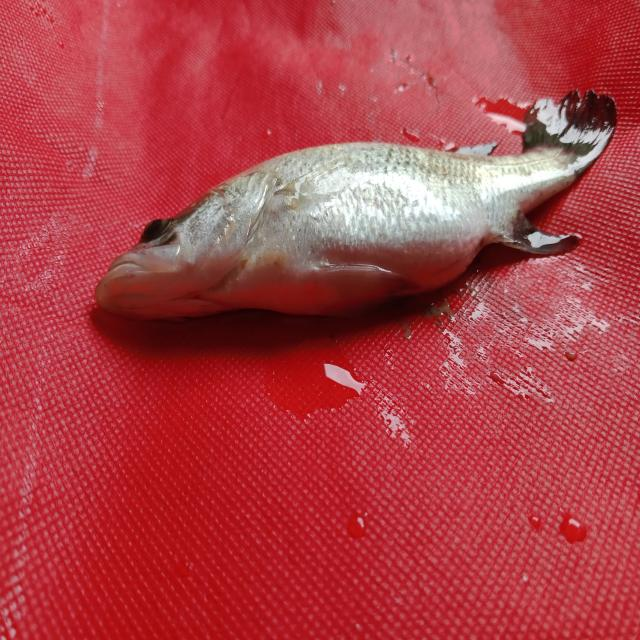ikan: (82, 78, 625, 350)
